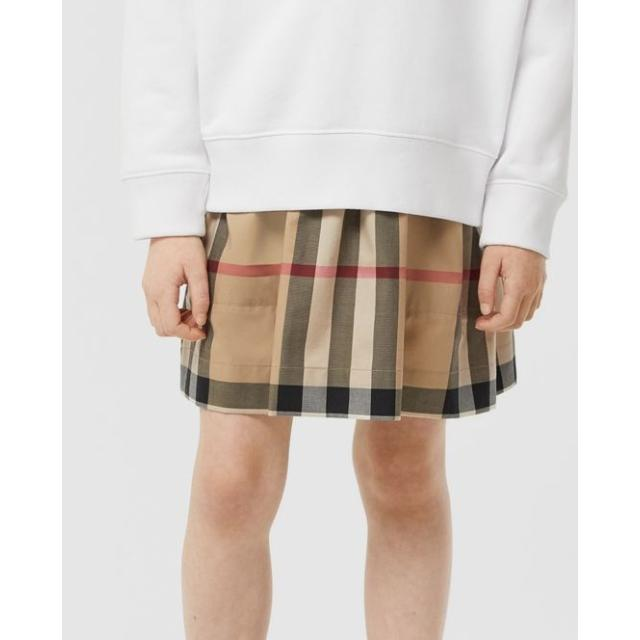cotton: (134, 1, 576, 413)
